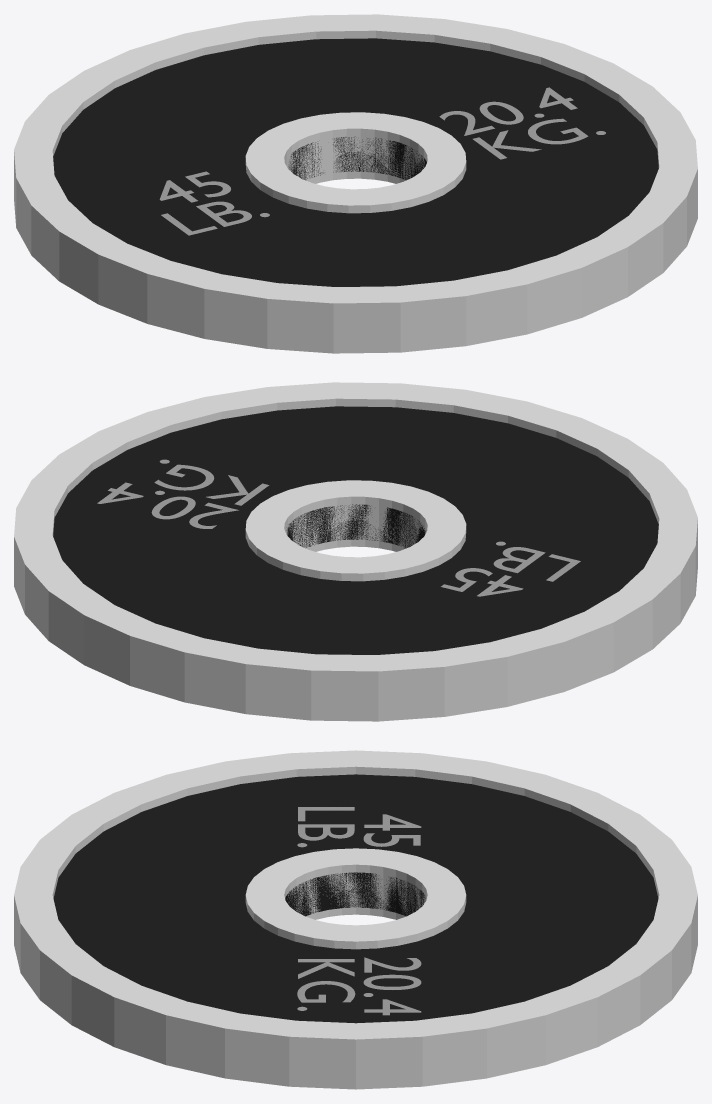
File: Plate20.fbx
3 renders of one model, top to bottom at view 1: azimuth 30°, elevation 25°; view 2: azimuth 150°, elevation 25°; view 3: azimuth 270°, elevation 25°, orthographic.
Parts seen in each view (by area): view 1: Cylinder.001, Cylinder.003, Cylinder.002, Text, Text.001; view 2: Cylinder.001, Cylinder.003, Cylinder.002, Text, Text.001; view 3: Cylinder.001, Cylinder.003, Cylinder.002, Text, Text.001.
Part boxes in pixels (box(x1,y1,x2,y2)): Cylinder.001: box(53, 38, 658, 286); Cylinder.003: box(14, 14, 697, 353); Cylinder.002: box(245, 112, 466, 213); Text: box(439, 87, 605, 159); Text.001: box(159, 171, 269, 235); Cylinder.001: box(53, 406, 658, 654); Cylinder.003: box(14, 382, 697, 721); Cylinder.002: box(245, 480, 466, 581); Text: box(97, 459, 269, 528); Text.001: box(441, 541, 580, 596); Cylinder.001: box(53, 774, 658, 1023); Cylinder.003: box(14, 750, 697, 1089); Cylinder.002: box(245, 848, 466, 949); Text: box(297, 957, 421, 1015); Text.001: box(297, 807, 421, 847).
Bounding box in the file's own units: 620 × 50 × 620.
Materials: 3 (1 with a texture image).
